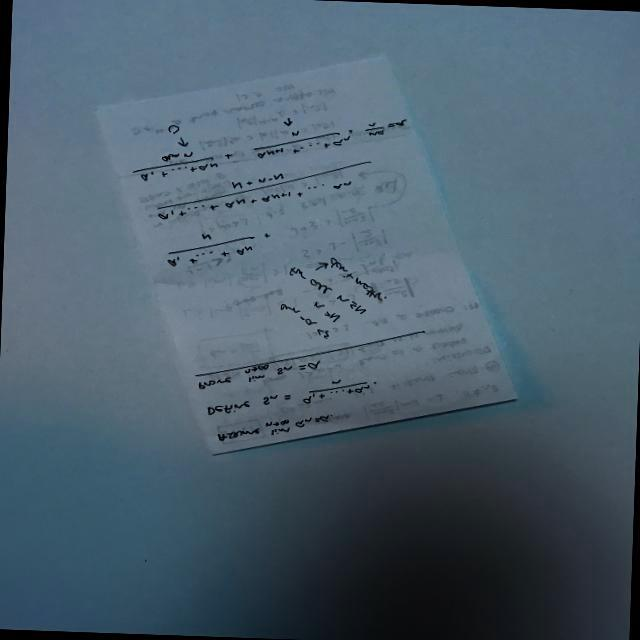paper: (65, 56, 545, 483)
